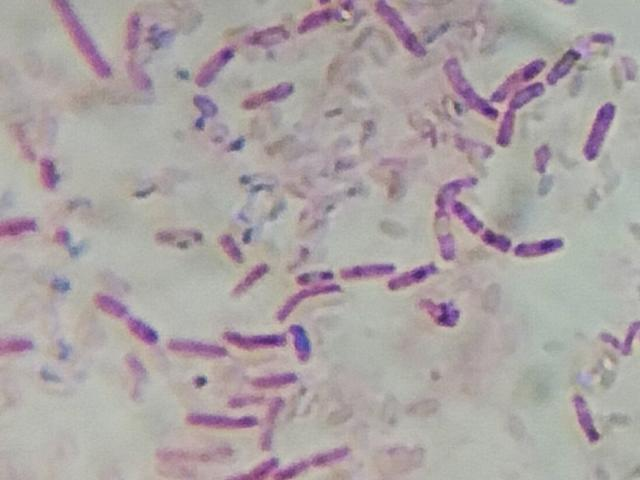E. coli: (54, 0, 117, 85), (445, 56, 494, 123), (374, 0, 428, 59), (123, 17, 159, 93), (280, 444, 352, 480), (276, 286, 349, 319), (513, 232, 571, 273), (584, 97, 618, 160), (242, 76, 297, 114), (493, 58, 548, 95), (186, 407, 254, 435), (575, 386, 606, 447), (228, 264, 273, 304), (390, 262, 439, 296), (299, 4, 346, 39), (0, 205, 43, 242), (256, 399, 287, 449), (224, 328, 286, 352), (433, 172, 478, 205), (196, 46, 235, 83), (615, 309, 640, 366), (167, 332, 219, 357), (340, 255, 390, 279), (33, 155, 63, 194), (436, 212, 461, 257), (2, 331, 40, 360), (215, 231, 248, 264), (95, 292, 129, 324), (479, 225, 511, 259), (287, 324, 315, 362), (553, 46, 580, 84), (512, 82, 549, 109), (253, 368, 296, 391), (495, 106, 518, 146), (129, 317, 163, 344), (242, 452, 275, 479), (452, 199, 477, 232), (296, 270, 342, 284), (598, 329, 625, 351)
